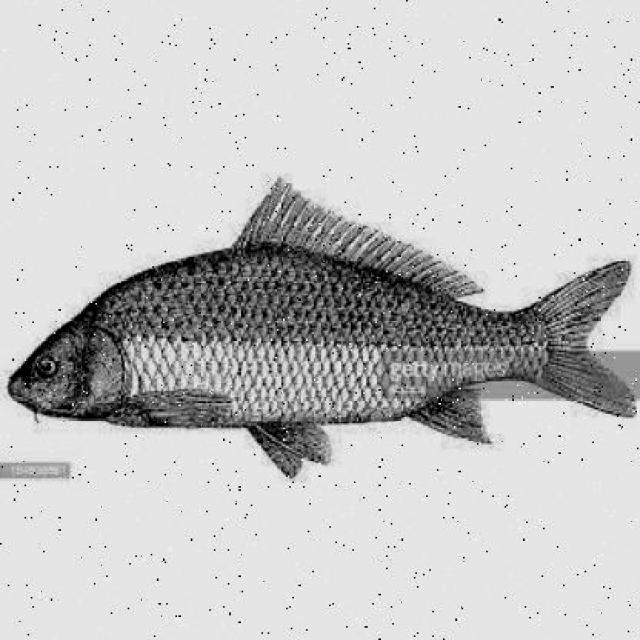ikan-mas: (8, 210, 630, 448)
